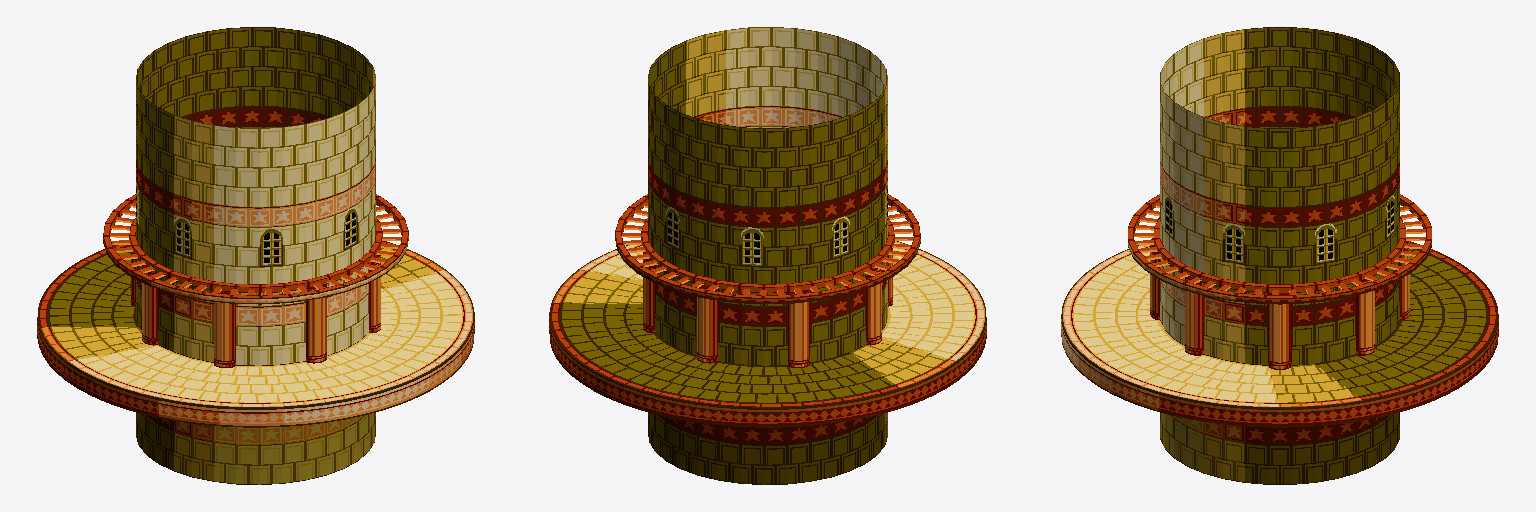
3 renders of one model, left to right at view 1: azimuth 30°, elevation 25°; view 2: azimuth 150°, elevation 25°; view 3: azimuth 270°, elevation 25°, orthographic.
Size of the model in its own units: 2000 by 1800 by 2000.
Materials: 28 (28 with a texture image).